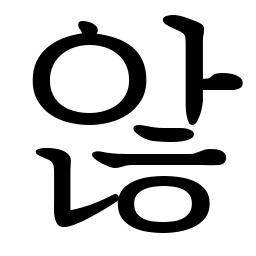Gaji: (172, 66, 220, 105)
